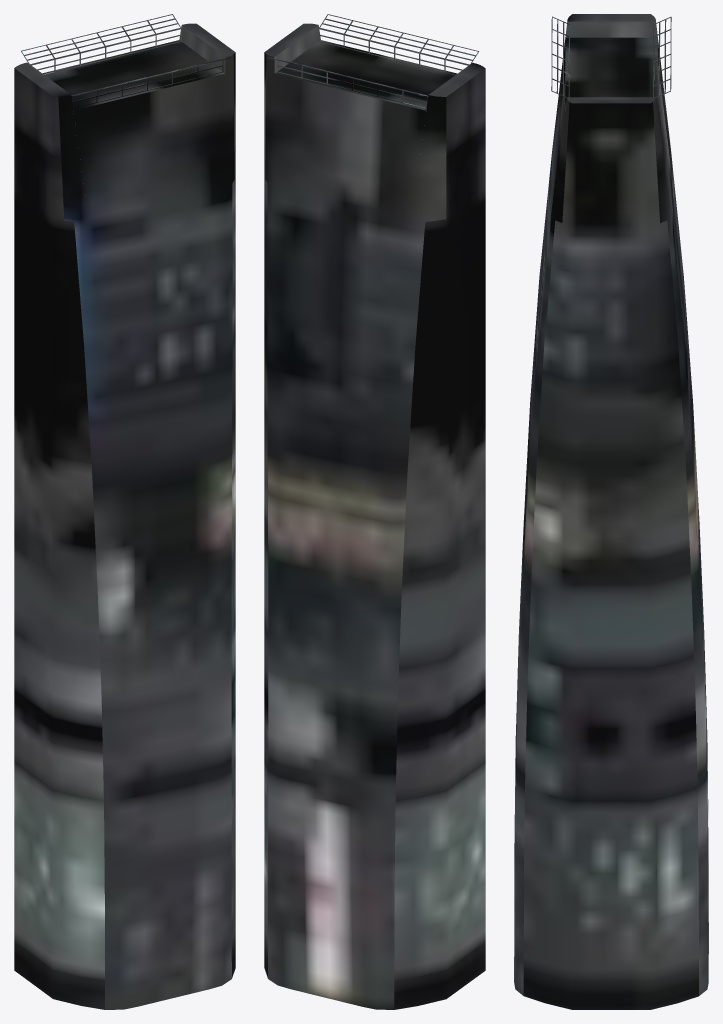
The model's file is night-5.glb.
The picture shows the model from 3 angles, left to right: view 1: azimuth 30°, elevation 25°; view 2: azimuth 150°, elevation 25°; view 3: azimuth 270°, elevation 25°; orthographic projection.
Bounding box in the file's own units: 3.08 × 14.64 × 2.83.
1 material, 1 textured.
